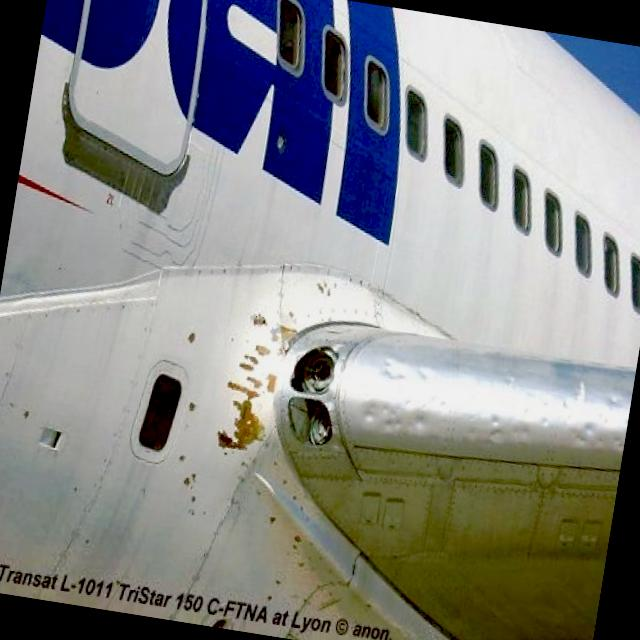dent: (357, 348, 633, 476)
